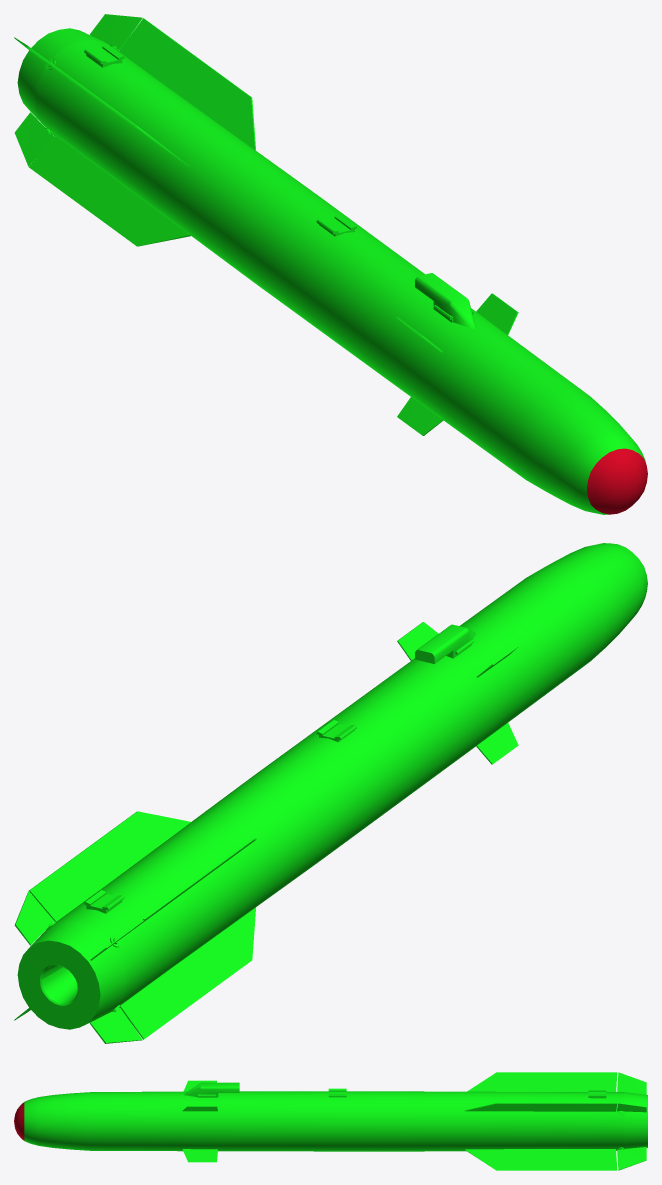
The model's file is Hellfire.FBX.
The picture shows the model from 3 angles, top to bottom: view 1: azimuth 30°, elevation 25°; view 2: azimuth 150°, elevation 25°; view 3: azimuth 270°, elevation 25°; orthographic projection. The views are drawn at different scales.
Visible parts, largest first — view 1: hellfire; view 2: hellfire; view 3: hellfire.
Part boxes in pixels (x1,y1,x2,y2): hellfire: (14, 14, 647, 514); hellfire: (14, 543, 647, 1043); hellfire: (14, 1072, 647, 1170).
Bounding box in the file's own units: 21.4 × 22.2 × 180.
